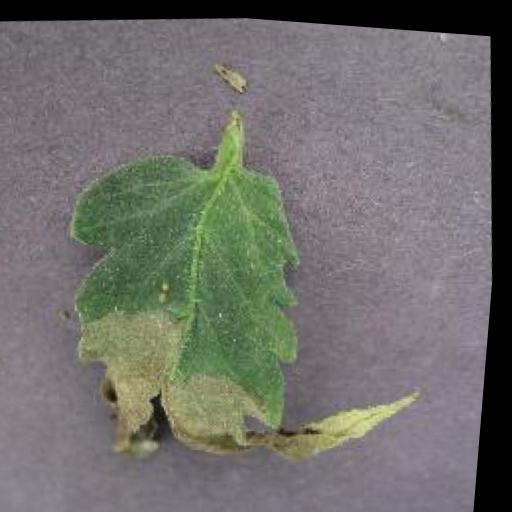Late Blight: (46, 76, 449, 487)
